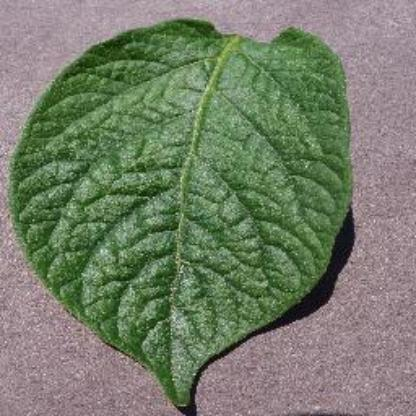Healthy-plant: (12, 24, 392, 396)
